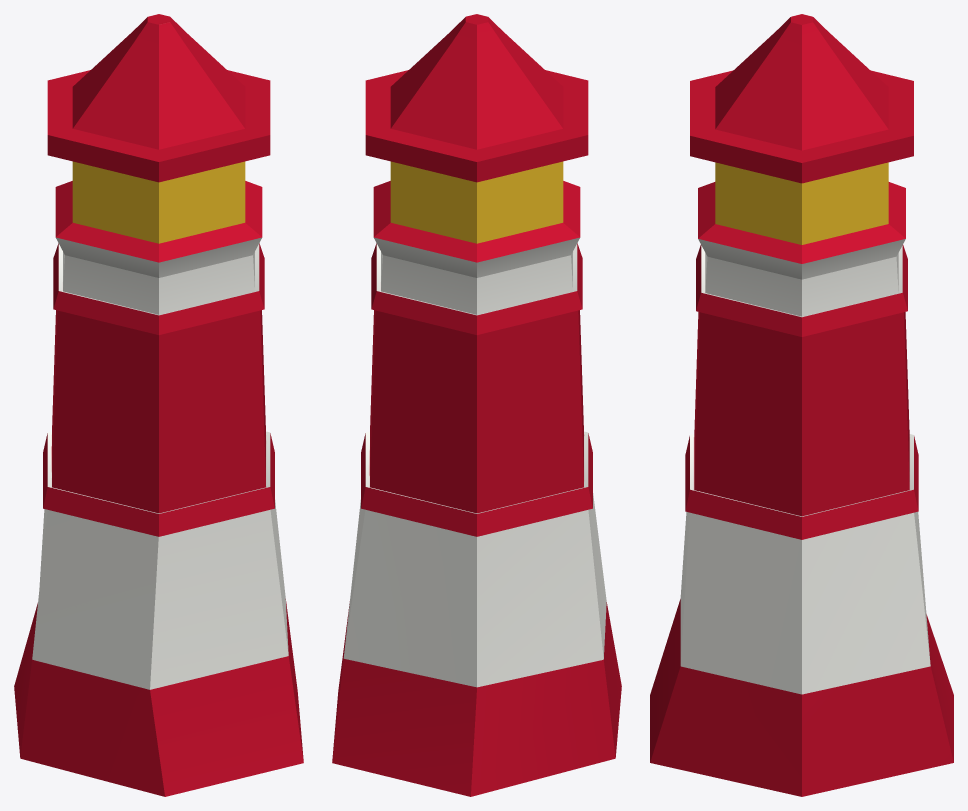
The model's file is faro.obj.
3 views of the same model, side by side, from view 1: azimuth 30°, elevation 25°; view 2: azimuth 150°, elevation 25°; view 3: azimuth 270°, elevation 25° (orthographic).
Visible parts, largest first — view 1: faro_lambert2; view 2: faro_lambert2; view 3: faro_lambert2.
Part boxes in pixels (bbox=[...]): faro_lambert2: bbox=[14, 14, 303, 796]; faro_lambert2: bbox=[332, 14, 621, 796]; faro_lambert2: bbox=[650, 14, 953, 796].
Bounding box in the file's own units: 1.23 × 3 × 1.16.
